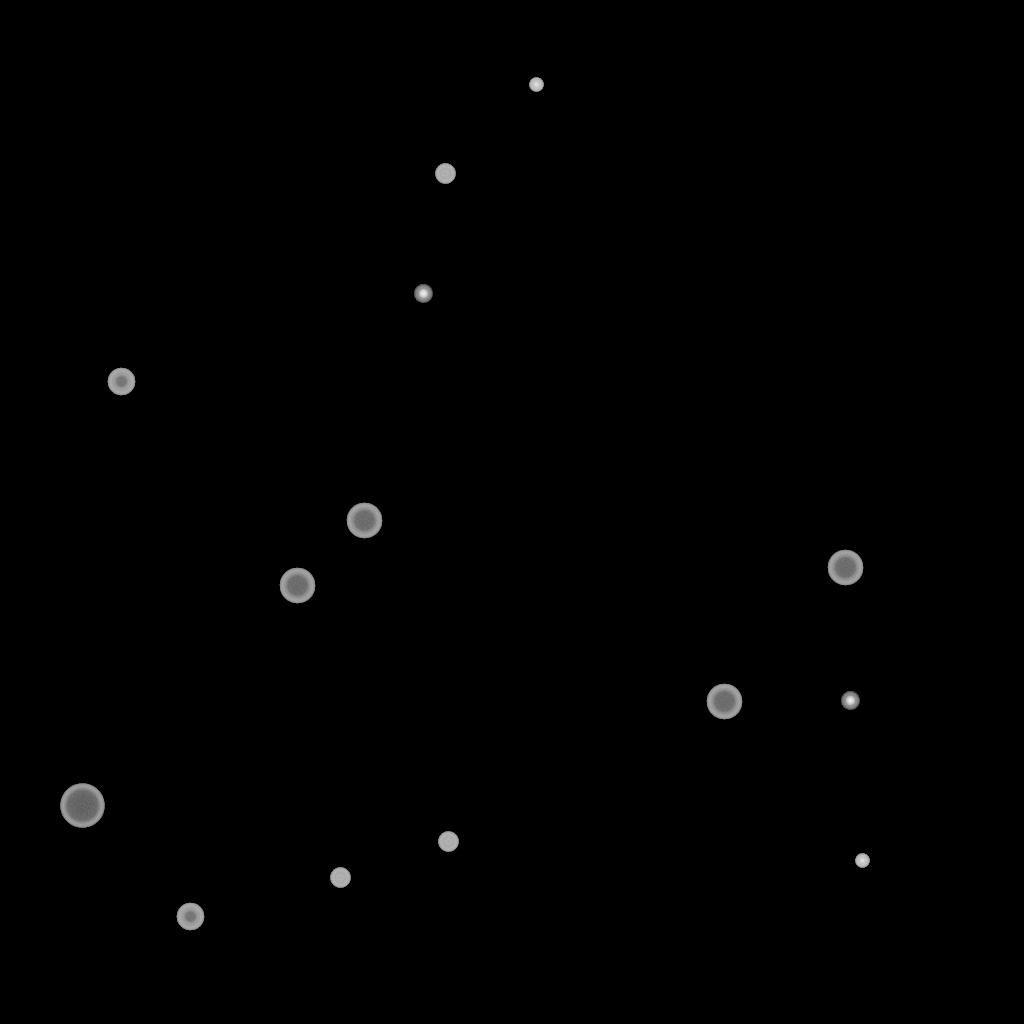depth:-20: (414, 285, 432, 303), (841, 692, 859, 710)
depth:-30: (855, 854, 869, 868), (529, 78, 543, 92)
depth:-40: (435, 164, 455, 184), (438, 832, 458, 852), (330, 868, 350, 888)
depth:-50: (176, 903, 204, 931), (107, 368, 135, 396)
depth:-60: (827, 550, 863, 586), (706, 684, 742, 720), (279, 568, 315, 604), (346, 503, 382, 539)
depth:-70: (60, 784, 104, 828)
